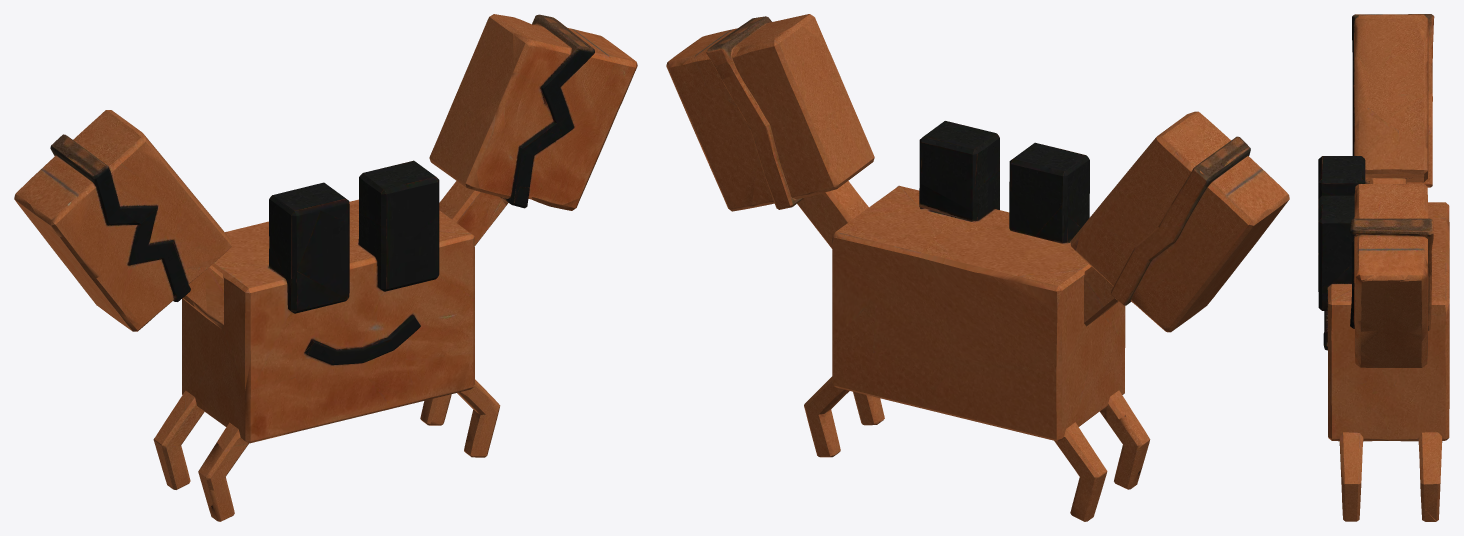
The model's file is crimson-fungus.glb.
3 views of the same model, side by side, from view 1: azimuth 30°, elevation 25°; view 2: azimuth 150°, elevation 25°; view 3: azimuth 270°, elevation 25° (orthographic). The views are drawn at different scales.
Visible parts, largest first — view 1: output_unwrapped; view 2: output_unwrapped; view 3: output_unwrapped.
Boxes of the visible parts, left/top/right/bottom form: output_unwrapped: left=14, top=14, right=637, bottom=521; output_unwrapped: left=666, top=14, right=1289, bottom=521; output_unwrapped: left=1318, top=14, right=1449, bottom=521.
Bounding box in the file's own units: 1.9 × 1.23 × 0.4061.
Materials: 1 (1 with a texture image).
